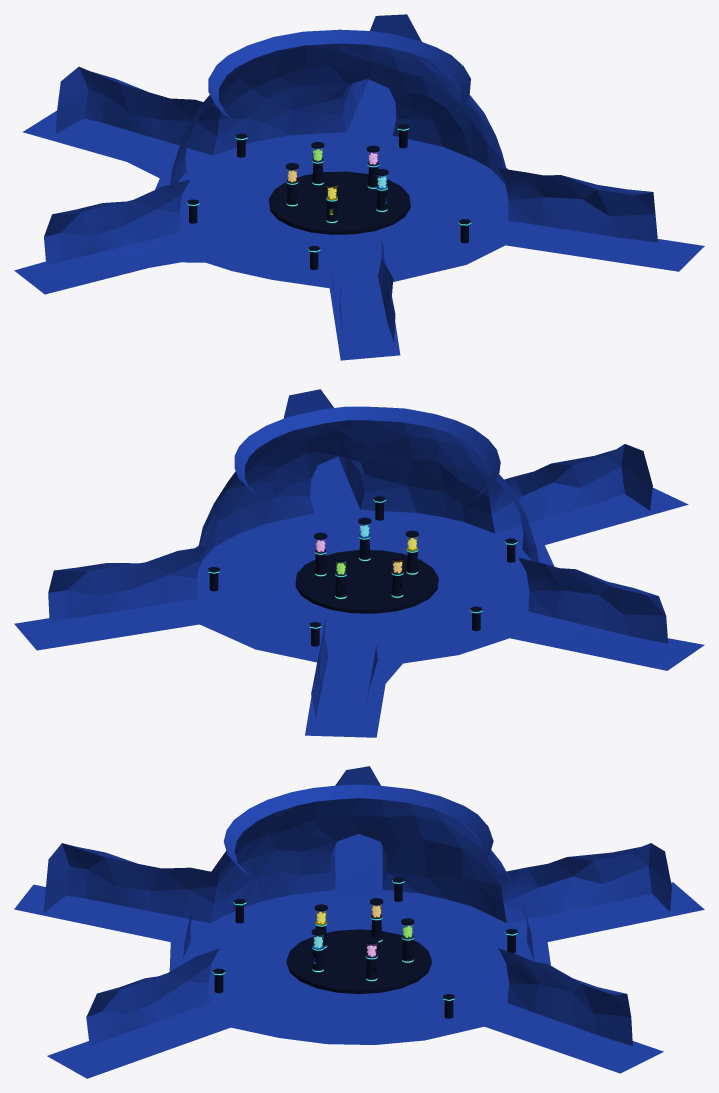
Rendered from room-noTank.glb.
3 views of the same model, one above another, from view 1: azimuth 30°, elevation 25°; view 2: azimuth 150°, elevation 25°; view 3: azimuth 270°, elevation 25° (orthographic).
Parts seen in each view (by area): view 1: group4 mainRoomFloor, group4 mainRoom, group4 central_pedestal; view 2: group4 mainRoomFloor, group4 mainRoom, group4 central_pedestal; view 3: group4 mainRoom, group4 mainRoomFloor, group4 central_pedestal.
Part boxes in pixels (left/top/right/bottom): group4 mainRoomFloor: left=14, top=79, right=704, bottom=360; group4 mainRoom: left=44, top=14, right=657, bottom=341; group4 central_pedestal: left=269, top=171, right=410, bottom=234; group4 mainRoomFloor: left=14, top=456, right=704, bottom=737; group4 mainRoom: left=48, top=389, right=668, bottom=719; group4 central_pedestal: left=295, top=550, right=438, bottom=613; group4 mainRoom: left=43, top=766, right=671, bottom=1046; group4 mainRoomFloor: left=14, top=834, right=704, bottom=1078; group4 central_pedestal: left=286, top=929, right=431, bottom=993.
Bounding box in the file's own units: 27.02 × 5.73 × 29.01.
5 materials, 5 textured.
